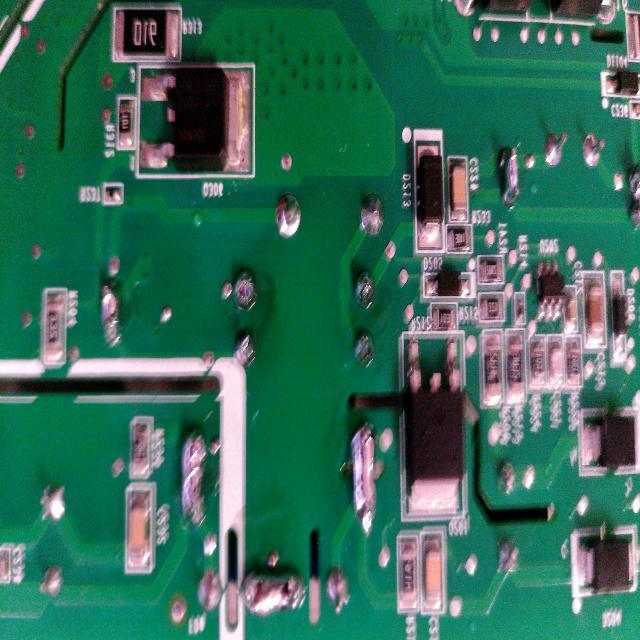Soldering shorted: (347, 424, 383, 534), (238, 564, 306, 616), (180, 434, 208, 530), (100, 278, 124, 352), (500, 144, 523, 210)
